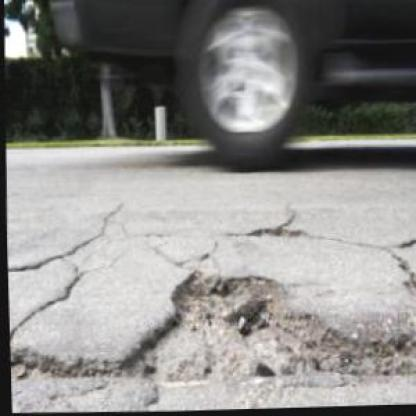pothole: (109, 259, 358, 394)
